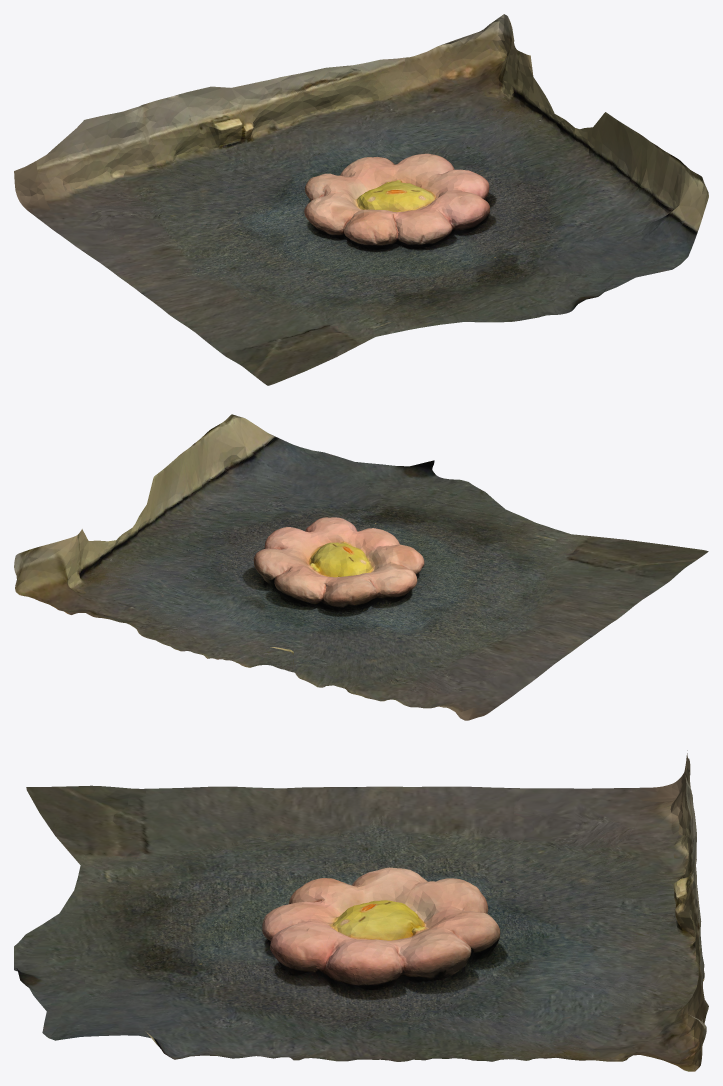
3 renders of one model, top to bottom at view 1: azimuth 30°, elevation 25°; view 2: azimuth 150°, elevation 25°; view 3: azimuth 270°, elevation 25°, orthographic. The views are drawn at different scales.
Size of the model in its own units: 1.58 by 0.2014 by 1.47.
1 material, 1 textured.
